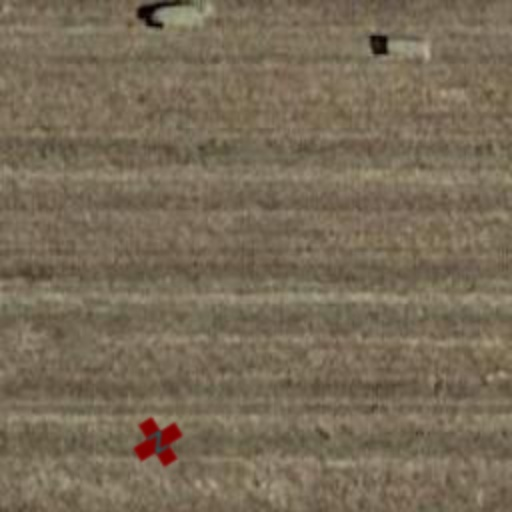cross: (122, 406, 194, 478)
